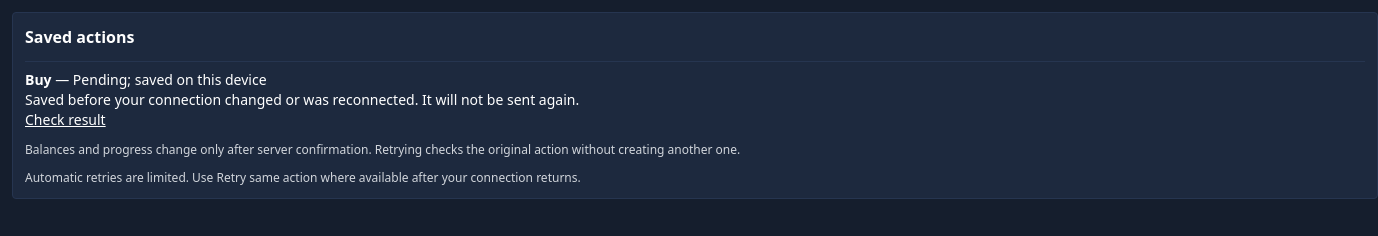
Test: saved-result controls remain scoped during asynchronous work › explains recovered completion without implying a new action or exposing technical receipt fields
Click the button "Check result".
click(65, 120)  # box top-left (25, 110), bottom-right (106, 130)
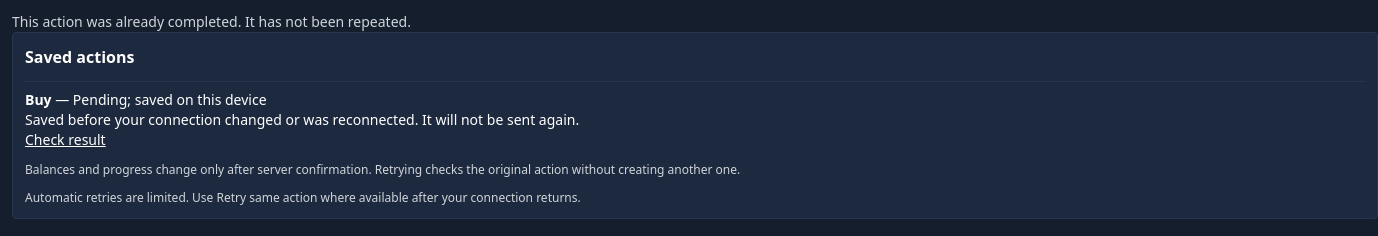
expect the text "This action was already completed. It has not been repeated." is shown: met, box top-left (12, 12), bottom-right (411, 31)
